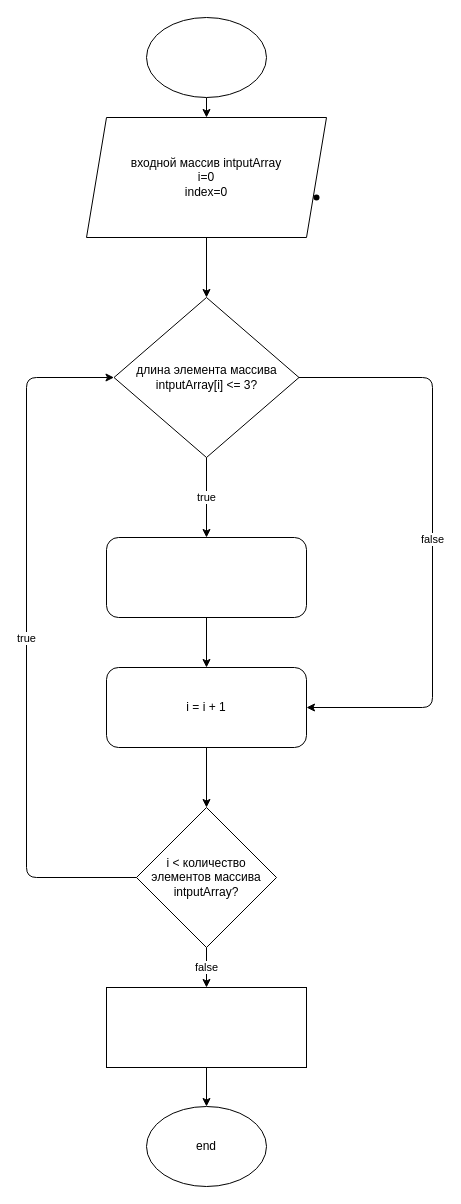
Image size: 461x1204. Some labels were removed from this diagram. The box of each missing label's shape, as (x1, y1, x2, y2) in pixels:
outputArray[j] = intputArray[i] index = index +1: (106, 536, 306, 618)
вывод outputArray: (106, 986, 306, 1068)
Начало: (146, 16, 266, 98)
